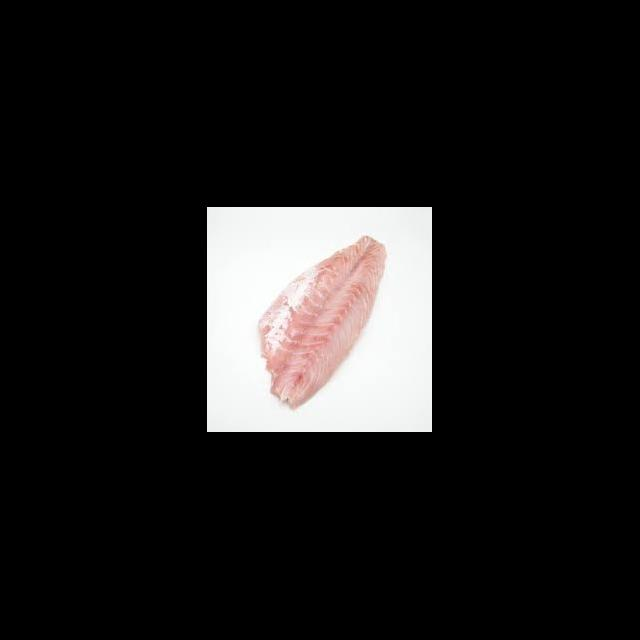fish: (257, 224, 392, 414)
